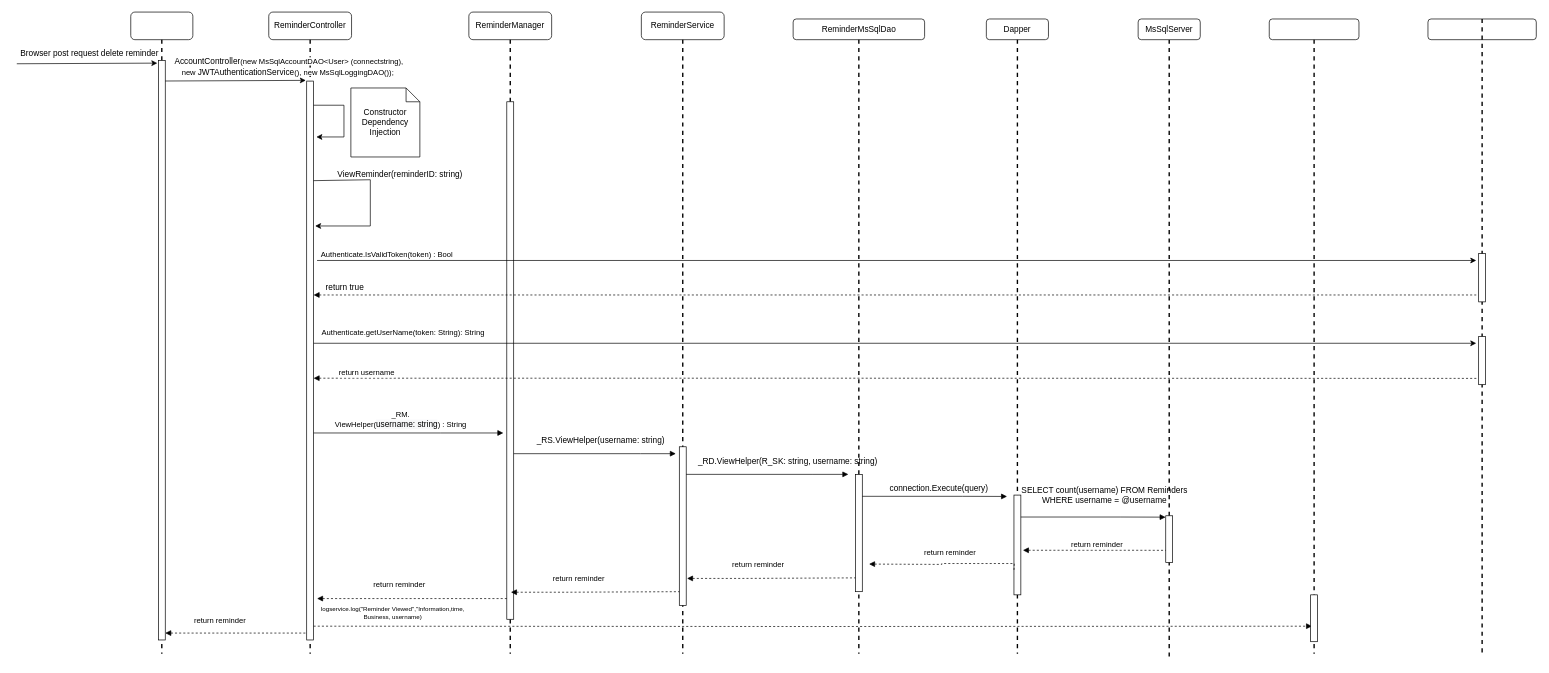
Some shapes in this 1549 by 673 pixel diagram are drawn without their labels. Here are the shapes that lost their labels. From the top down, the box of each, then its label:
(130, 11, 193, 40): Browser
(1269, 18, 1359, 40): SQLLoggingService
(1427, 18, 1536, 40): JWTAuthenticationService
